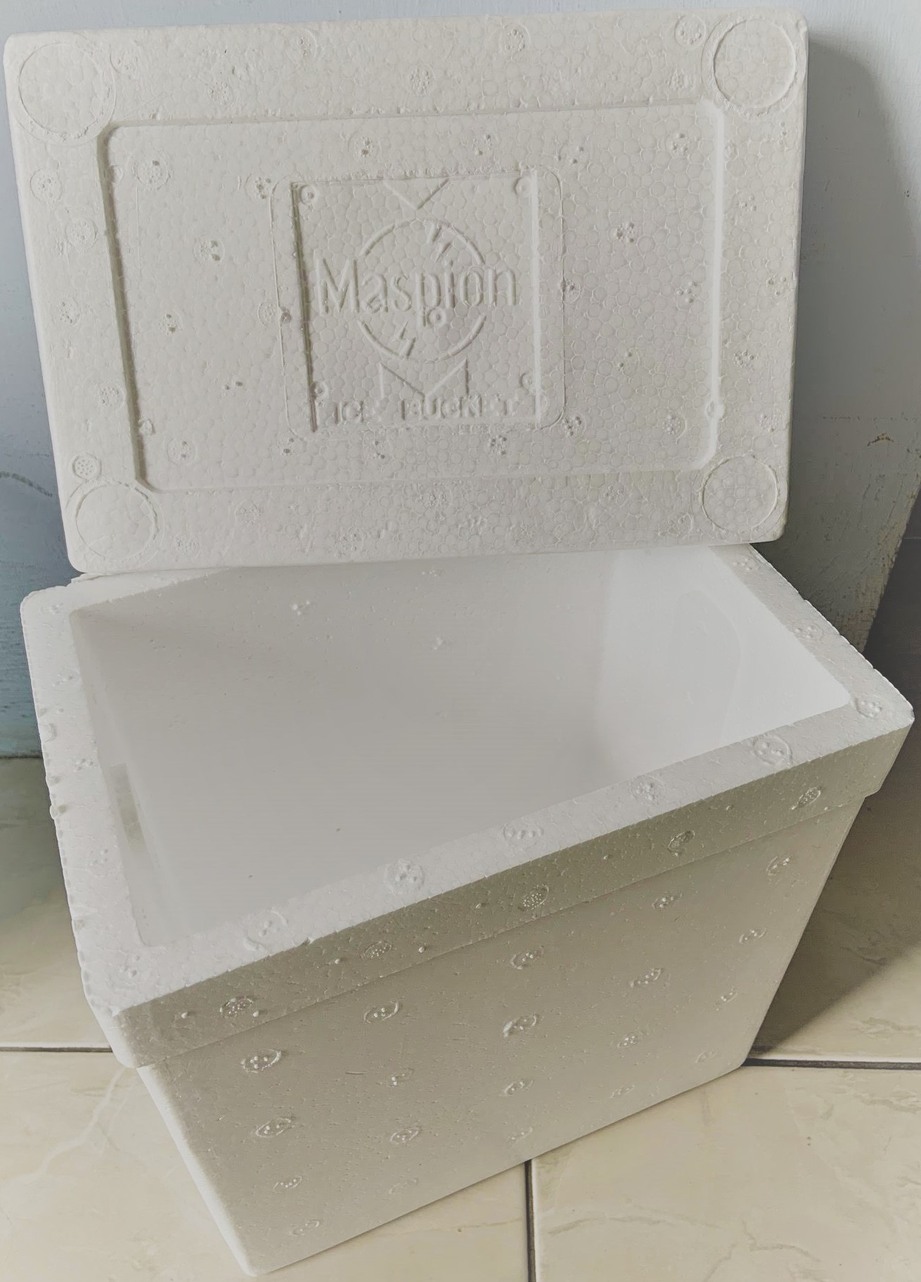泡沫箱: (7, 17, 912, 1267)
